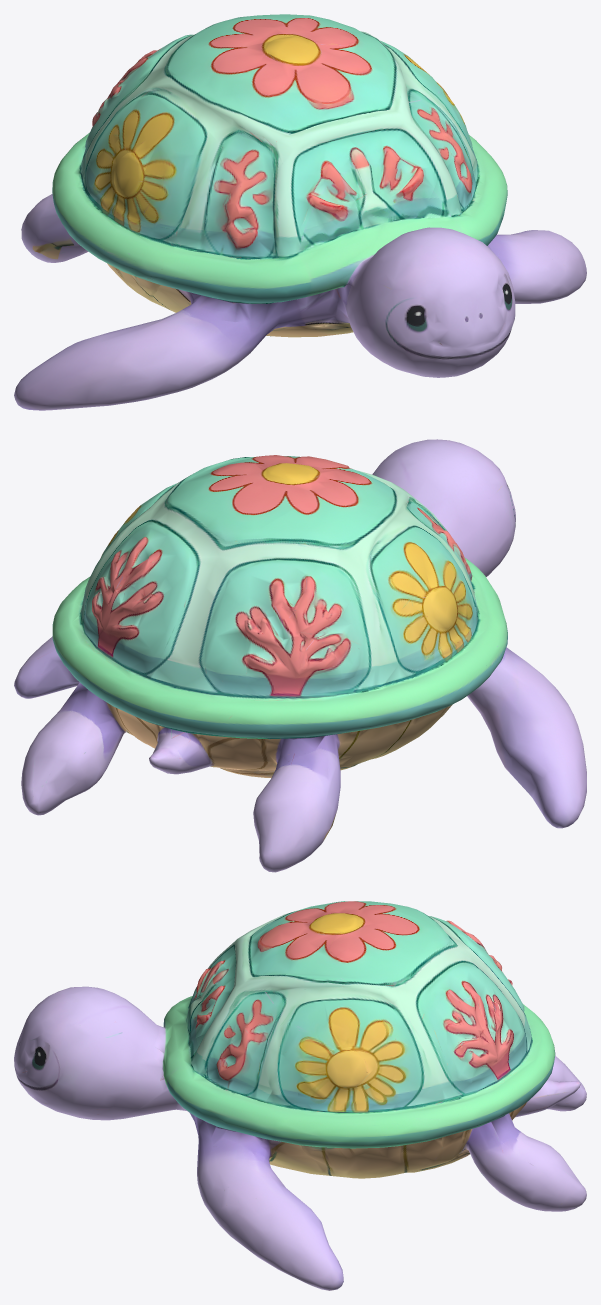
The model's file is static.glb.
3 views of the same model, one above another, from view 1: azimuth 30°, elevation 25°; view 2: azimuth 150°, elevation 25°; view 3: azimuth 270°, elevation 25° (orthographic). The views are drawn at different scales.
Parts seen in each view (by area): view 1: Mesh_0; view 2: Mesh_0; view 3: Mesh_0.
Boxes of the visible parts, x1=… form: Mesh_0: x1=14, y1=14, x2=586, y2=410; Mesh_0: x1=14, y1=439, x2=586, y2=872; Mesh_0: x1=14, y1=901, x2=586, y2=1290.
Bounding box in the file's own units: 1.86 × 0.9367 × 1.9.
1 material, 1 textured.
